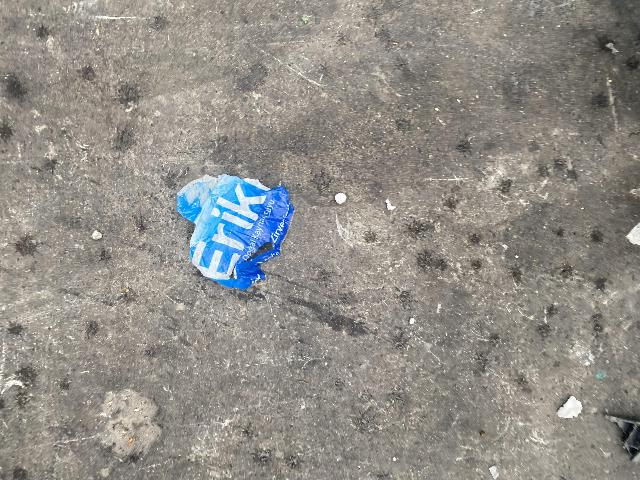Plastik: (175, 173, 296, 293)
